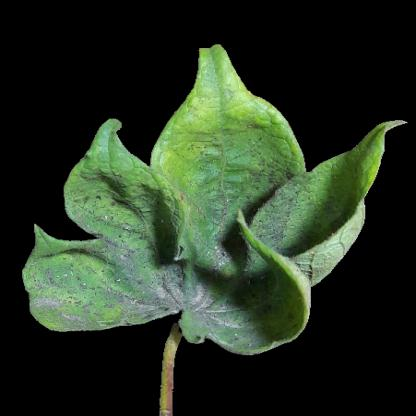curl_stage1: (191, 97, 261, 128), (203, 53, 238, 111), (168, 135, 201, 191)
sooty: (110, 261, 241, 324), (208, 167, 298, 244), (41, 264, 107, 328)
